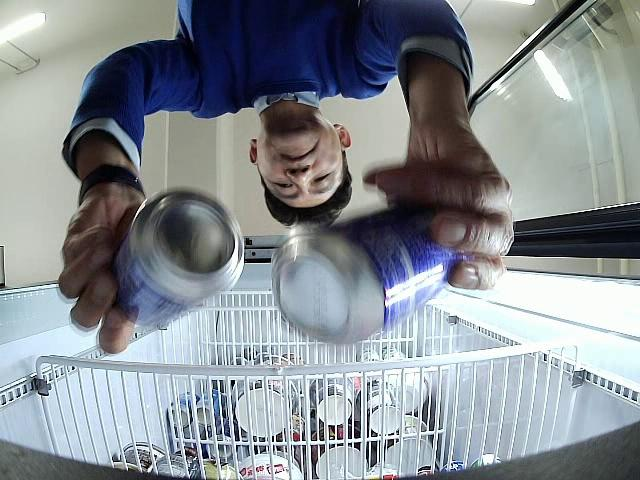00_hand: (365, 105, 514, 289), (57, 196, 145, 354)
14_welchsGrape: (272, 205, 465, 345), (111, 187, 245, 329)
